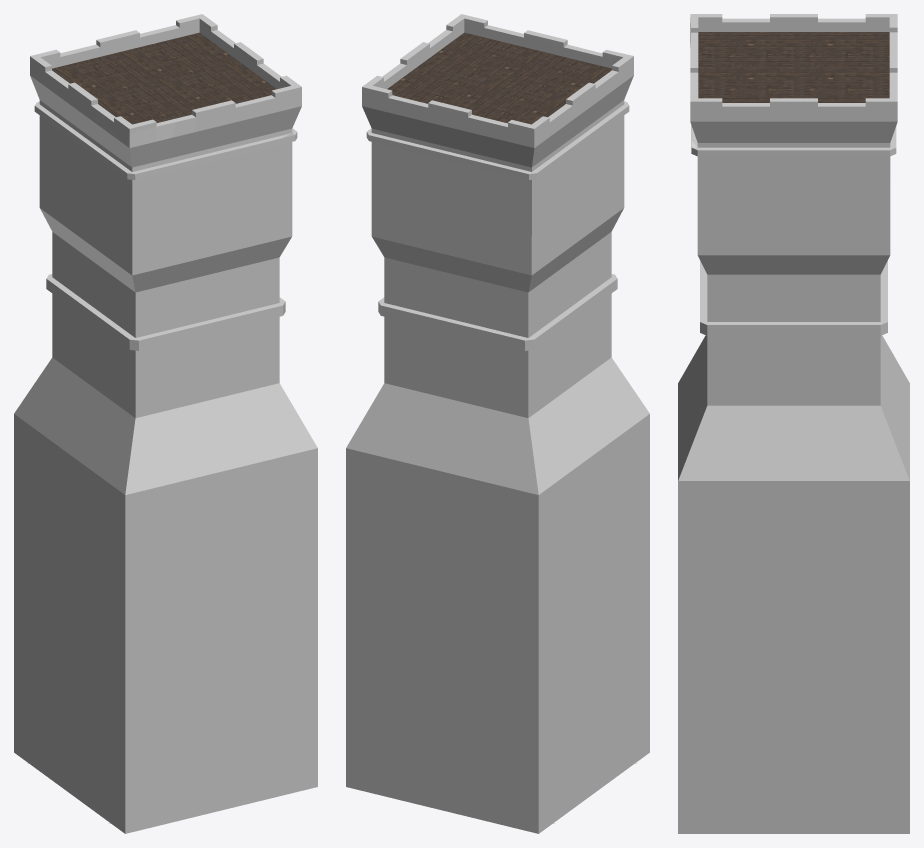
The model's file is Tower-5.fbx.
3 views of the same model, side by side, from view 1: azimuth 30°, elevation 25°; view 2: azimuth 150°, elevation 25°; view 3: azimuth 270°, elevation 25° (orthographic). The views are drawn at different scales.
Visible parts, largest first — view 1: VezaKocka2; view 2: VezaKocka2; view 3: VezaKocka2.
Boxes of the visible parts, x1=… form: VezaKocka2: x1=14, y1=14, x2=317, y2=833; VezaKocka2: x1=346, y1=14, x2=649, y2=833; VezaKocka2: x1=678, y1=14, x2=909, y2=833.
Bounding box in the file's own units: 1650 × 5652 × 1633.
